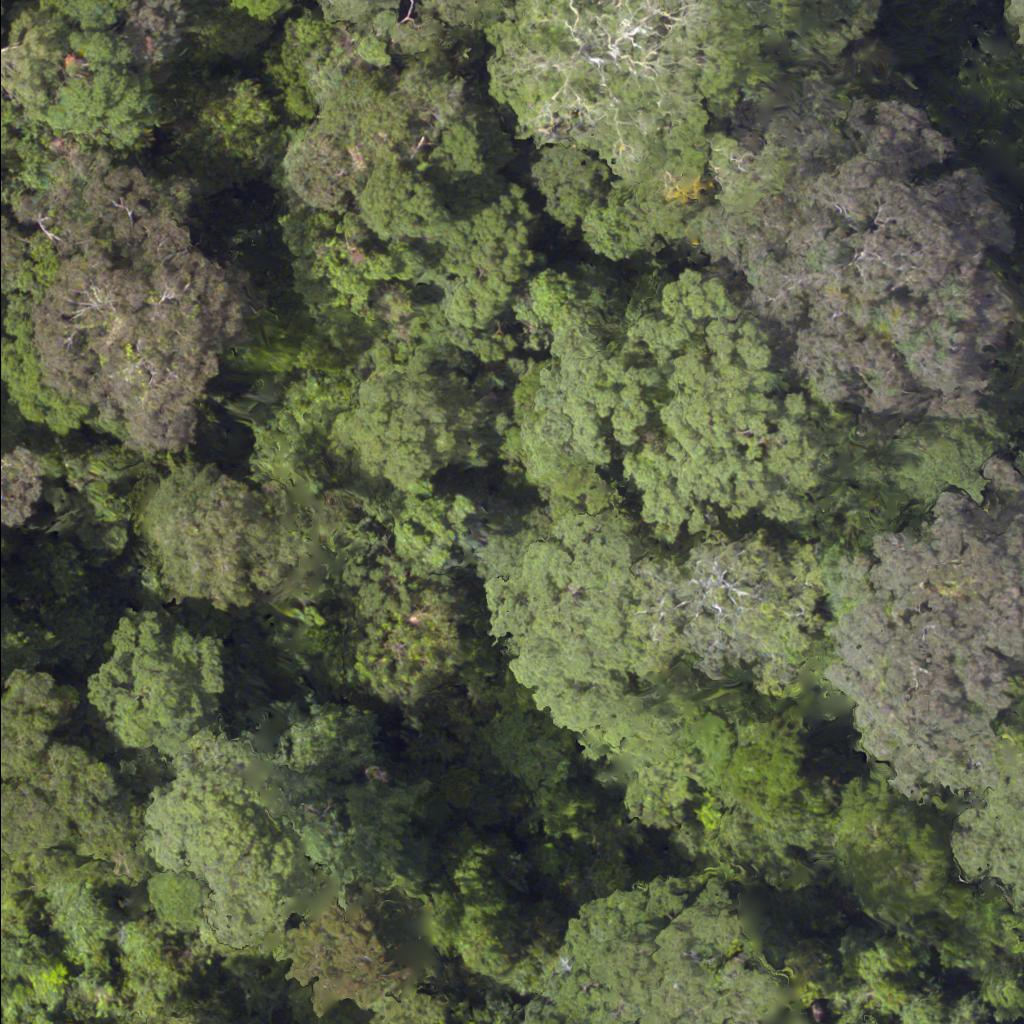crown: (696, 74, 1023, 418), (529, 273, 863, 557), (0, 156, 242, 446), (480, 0, 807, 209), (470, 517, 673, 777), (321, 342, 508, 495), (643, 535, 819, 688), (331, 557, 484, 714), (125, 463, 286, 611), (89, 608, 242, 763), (0, 301, 83, 434)
